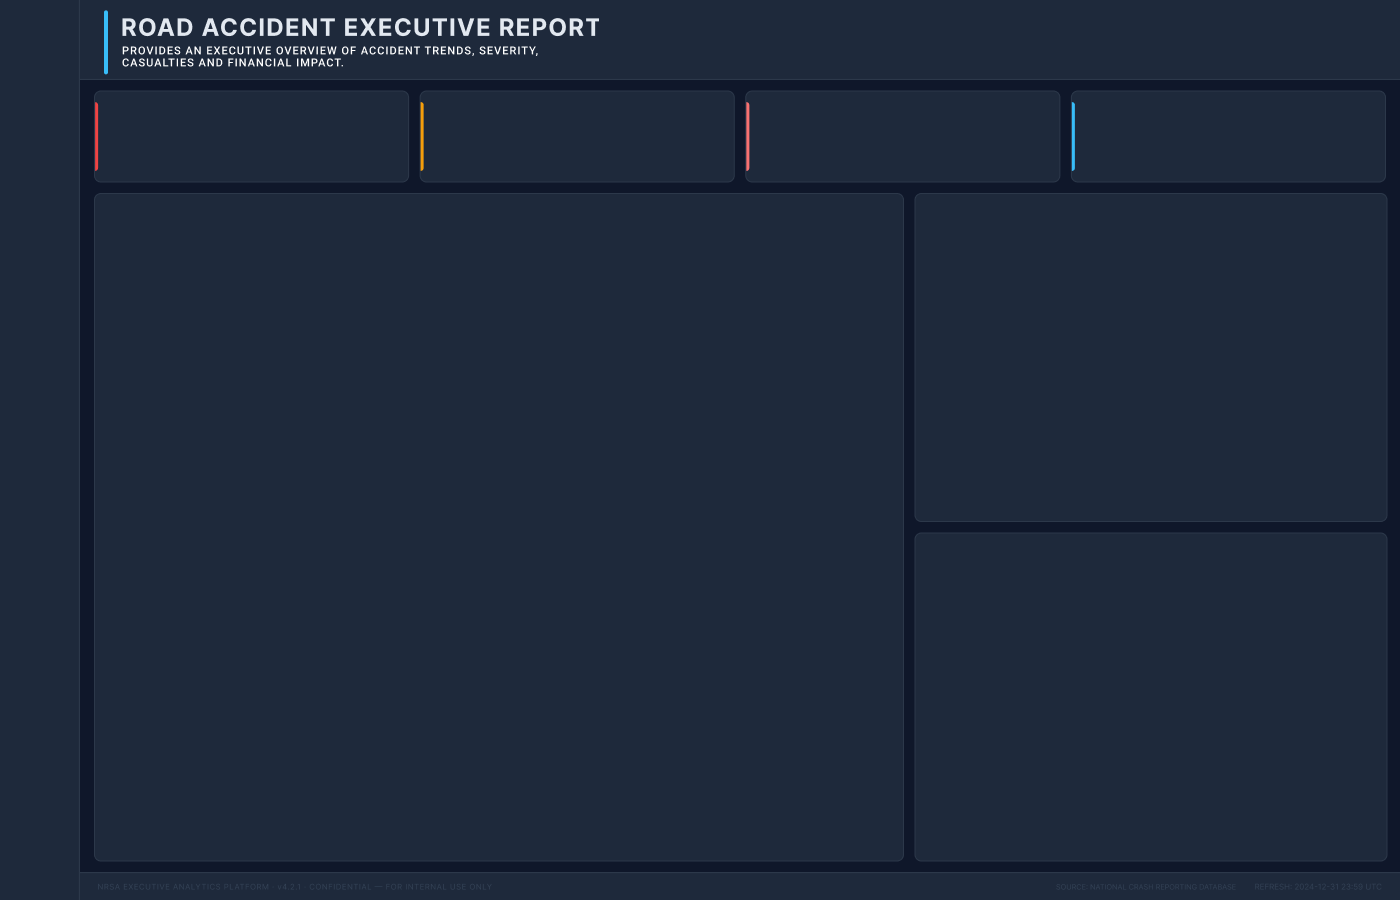

What the dashboard file says about the page in this screenshot:
{"tool":"powerbi","page":{"name":"Report 1","canvas":[1500,1500],"ordinal":0},"visuals":[{"type":"textbox","box":[9.6,0,279.9,41.2],"z":0},{"type":"textbox","box":[193.3,20,1113.3,120],"z":1000},{"type":"shape","box":[35,175,631.7,296.7],"z":2000},{"type":"cardVisual","fields":{"Data":["Sum(Query1.Injury Total)"]},"box":[55.1,254.9,198.3,126.7],"z":3000},{"type":"cardVisual","fields":{"Data":["Sum(Query1.Num units)"]},"box":[253.4,254.9,193.3,126.7],"z":4000},{"type":"lineStackedColumnComboChart","title":"Biểu đồ phân tích số vụ tai nạn và số phương tiện trong từng năm","fields":{"Category":["Query1.year"],"Y":["Sum(Query1.Injury Total)"],"Y2":["Sum(Query1.Num units)"]},"box":[721.7,175,728.3,296.7],"z":5000},{"type":"pieChart","title":"Biểu đồ thống kê số vụ tai nạn theo vụ va chạm tổng thể","fields":{"Y":["Sum(Query1.Number of Accident)"],"Category":["Query1.Crash Type"]},"box":[36.7,565,631.7,368.3],"z":6000},{"type":"clusteredBarChart","title":"Biểu đồ phân tích số vụ tai nạn và phương tiện theo các mức độ thiệt hại","fields":{"Category":["Query1.Damage Extension"],"Y":["Sum(Query1.Number of Accident)","Sum(Query1.Num units)"]},"box":[721.7,565,728.3,368.3],"z":7000},{"type":"pivotTable","title":"Bảng phân tích các vụ va chạm trong từng năm","fields":{"Rows":["Query1.year"],"Columns":["Query1.First Crash Type"],"Values":["Sum(Query1.Injury Total)","Sum(Query1.Number of Accident)"]},"box":[43.3,996.7,1413.3,468.3],"z":8000},{"type":"cardVisual","fields":{"Data":["Sum(Query1.Number of Accident)"]},"box":[446.8,254.9,193.3,126.7],"z":9000}]}

Visuals, with their boxes on the page's 1500x1500 design canvas (x1, y1, x2, y2). These are canvas units, not pixel positions in the 1400x900 screenshot, which may show the page scaled, cropped or inside an application window:
textbox: bbox=[10, 0, 290, 41]
textbox: bbox=[193, 20, 1307, 140]
shape: bbox=[35, 175, 667, 472]
cardVisual - Sum(Query1.Injury Total): bbox=[55, 255, 253, 382]
cardVisual - Sum(Query1.Num units): bbox=[253, 255, 447, 382]
"Biểu đồ phân tích số vụ tai nạn và số phương tiện trong từng năm" lineStackedColumnComboChart: bbox=[722, 175, 1450, 472]
"Biểu đồ thống kê số vụ tai nạn theo vụ va chạm tổng thể" pieChart: bbox=[37, 565, 668, 933]
"Biểu đồ phân tích số vụ tai nạn và phương tiện theo các mức độ thiệt hại" clusteredBarChart: bbox=[722, 565, 1450, 933]
"Bảng phân tích các vụ va chạm trong từng năm" pivotTable: bbox=[43, 997, 1457, 1465]
cardVisual - Sum(Query1.Number of Accident): bbox=[447, 255, 640, 382]
